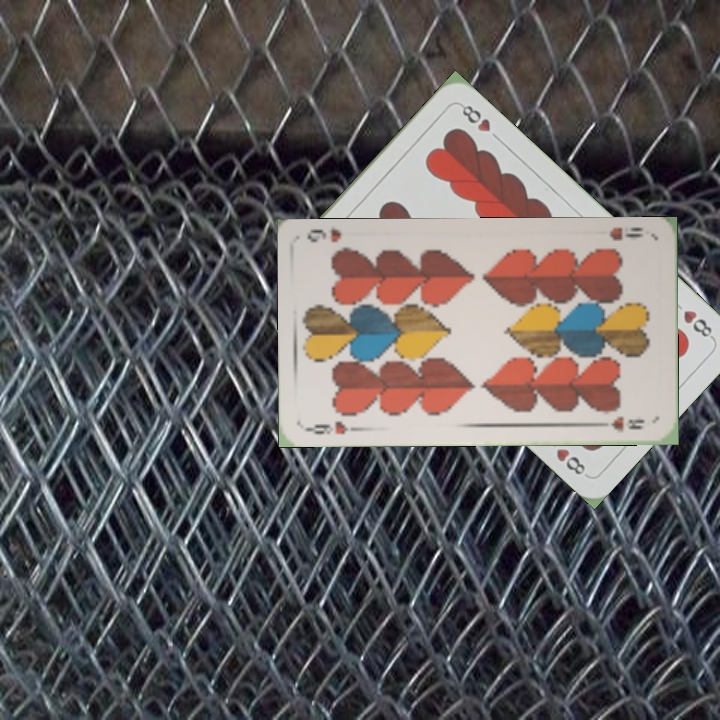H8: (679, 306, 717, 342)
H9: (303, 416, 362, 437), (606, 223, 646, 244)
